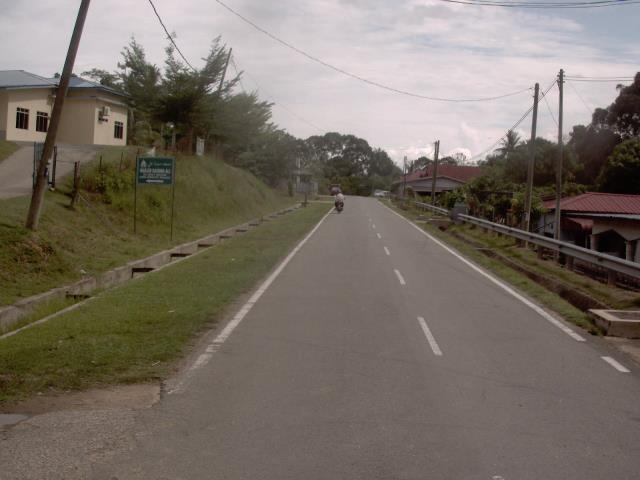ads_sign: (129, 147, 181, 190)
